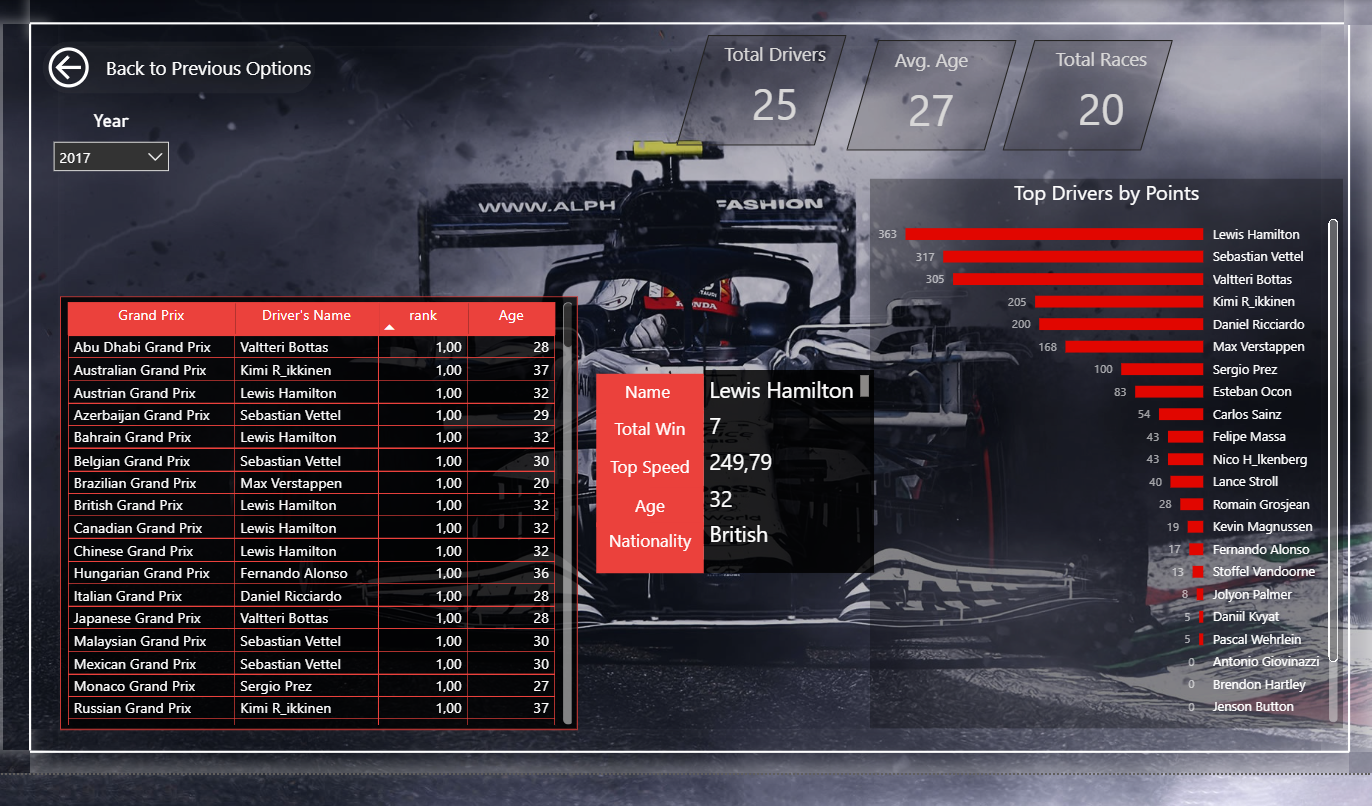

Layout of this report page (visuals, bound fields, positions):
{"tool":"powerbi","page":{"name":"Drivers","canvas":[1280,720],"ordinal":3},"visuals":[{"type":"shape","box":[2.6,22.4,51.3,676.3],"z":0},{"type":"shape","box":[1228.5,22.7,51.7,676.1],"z":1000},{"type":"shape","box":[27.6,0,1222.4,43.4],"z":2000},{"type":"shape","box":[27.7,677.3,1227.3,42.9],"z":3000},{"type":"actionButton","box":[39.5,38.2,253.9,48.7],"z":4000},{"type":"barChart","title":"Top Drivers by Points","fields":{"Category":["aly6060 fact_result.Driver's Name"],"Y":["Sum(aly6060 fact_result.points)"]},"box":[809.8,166.5,440.2,510.8],"z":6000},{"type":"slicer","title":"Year","fields":{"Values":["aly6060 fact_result.aly6060.dim_race.date.Variation.Date Hierarchy.Year"]},"box":[39.5,102.6,127.6,73.7],"z":7000},{"type":"tableEx","fields":{"Values":["aly6060 fact_result.aly6060.dim_race.name","aly6060 fact_result.Driver's Name","aly6060 fact_result.rank","aly6060 fact_result.Age"]},"box":[55.7,275.7,481.4,402.9],"z":8000},{"type":"card","title":"Total Drivers","fields":{"Values":["aly6060 fact_result.Total_Drivers"]},"box":[654.3,38.6,132.9,92.9],"z":9000},{"type":"card","title":"Total Races","fields":{"Values":["aly6060 fact_result.No_of_Races"]},"box":[958.6,42.9,132.9,92.9],"z":10000},{"type":"card","title":"Avg. Age","fields":{"Values":["Median(aly6060 fact_result.Age)"]},"box":[800,44.3,132.9,92.9],"z":11000},{"type":"shape","box":[628.6,32.9,158.6,102.9],"z":12000},{"type":"shape","box":[932.9,37.1,158.6,102.9],"z":13000},{"type":"shape","box":[787.1,37.1,158.6,102.9],"z":14000},{"type":"multiRowCard","title":"Best Performer","fields":{"Values":["aly6060 fact_result.Driver's Name","aly6060 fact_result.WinCount","Max(aly6060 fact_result.fastestLapSpeed)","Median(aly6060 fact_result.Age)","aly6060 fact_result.aly6060.dim_drivers.nationality"]},"box":[654.3,344.3,158.6,188.6],"z":15000},{"type":"textbox","box":[554.3,418,100,37.1],"z":16000},{"type":"textbox","box":[554.3,383,100,37.1],"z":17000},{"type":"textbox","box":[554.3,453,100,37.1],"z":18000},{"type":"textbox","box":[554.3,485.7,100,47.1],"z":19000},{"type":"textbox","box":[554.3,347.1,100,37.1],"z":20000}]}

Visuals, with their boxes on the page's 1280x720 design canvas (x1, y1, x2, y2). These are canvas units, not pixel positions in the 1372x806 screenshot, which may show the page scaled, cropped or inside an application window:
shape: (left=3, top=22, right=54, bottom=699)
shape: (left=1228, top=23, right=1280, bottom=699)
shape: (left=28, top=0, right=1250, bottom=43)
shape: (left=28, top=677, right=1255, bottom=720)
actionButton: (left=40, top=38, right=293, bottom=87)
"Top Drivers by Points" barChart: (left=810, top=166, right=1250, bottom=677)
"Year" slicer: (left=40, top=103, right=167, bottom=176)
tableEx - aly6060 fact_result.aly6060.dim_race.name x aly6060 fact_result.Driver's Name: (left=56, top=276, right=537, bottom=679)
"Total Drivers" card: (left=654, top=39, right=787, bottom=132)
"Total Races" card: (left=959, top=43, right=1092, bottom=136)
"Avg. Age" card: (left=800, top=44, right=933, bottom=137)
shape: (left=629, top=33, right=787, bottom=136)
shape: (left=933, top=37, right=1092, bottom=140)
shape: (left=787, top=37, right=946, bottom=140)
"Best Performer" multiRowCard: (left=654, top=344, right=813, bottom=533)
textbox: (left=554, top=418, right=654, bottom=455)
textbox: (left=554, top=383, right=654, bottom=420)
textbox: (left=554, top=453, right=654, bottom=490)
textbox: (left=554, top=486, right=654, bottom=533)
textbox: (left=554, top=347, right=654, bottom=384)
